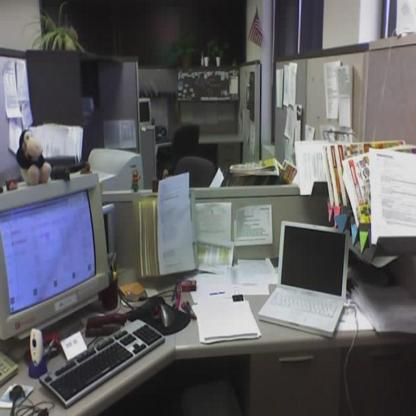board: (266, 213, 348, 340)
